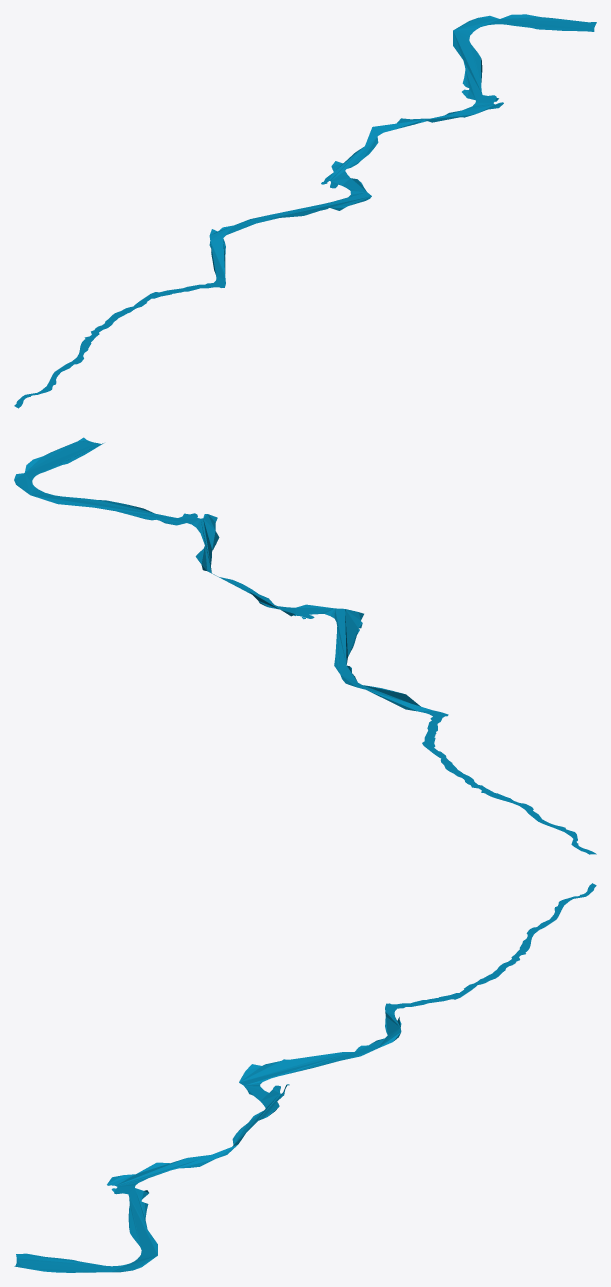
Rendered from water.glb.
3 views of the same model, one above another, from view 1: azimuth 90°, elevation 25°; view 2: azimuth 150°, elevation 25°; view 3: azimuth 270°, elevation 25° (orthographic). The views are drawn at different scales.
Parts seen in each view (by area): view 1: water; view 2: water; view 3: water.
Boxes of the visible parts, box(x1,y1,x2,y2) form: water: box(14, 14, 596, 408); water: box(14, 437, 596, 854); water: box(14, 883, 596, 1272).
Bounding box in the file's own units: 1836 × 28.02 × 1154.
